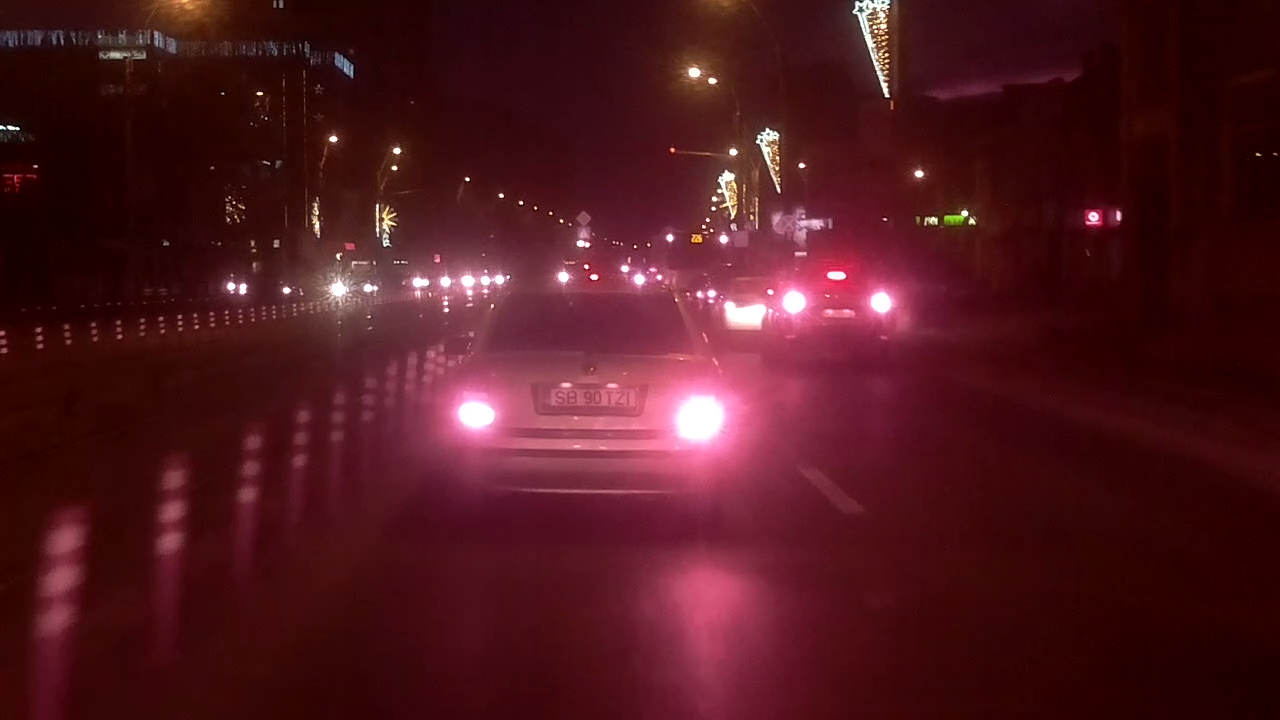license-plate: (538, 384, 641, 411)
